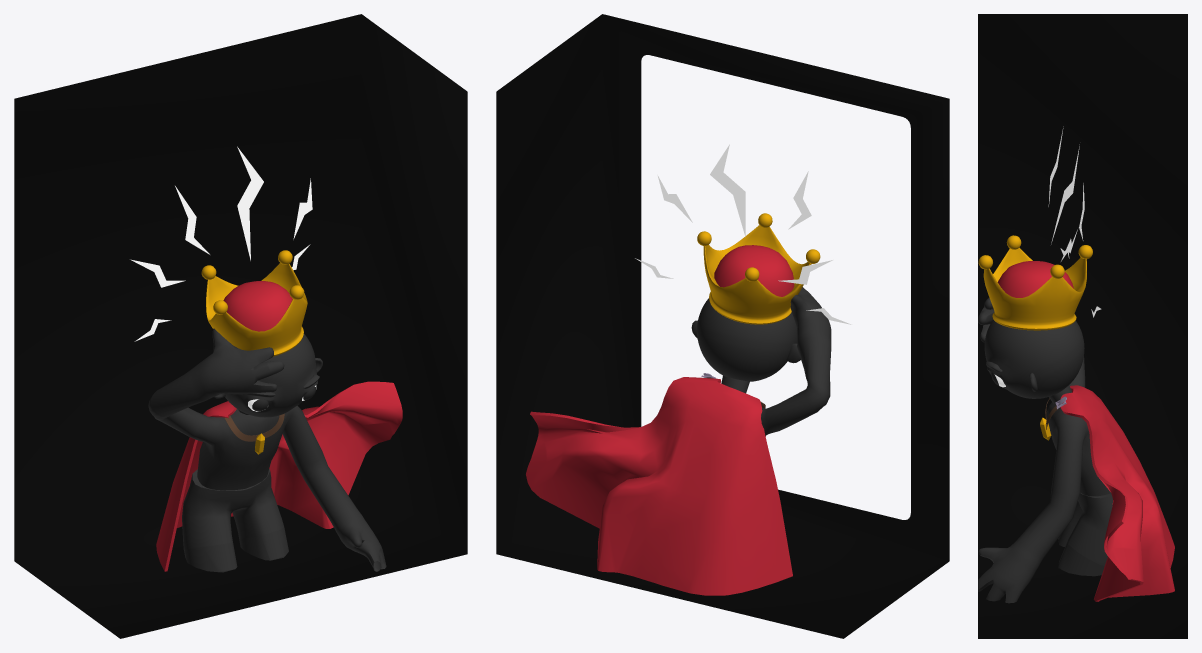
File: 6_King.gltf
3 views of the same model, side by side, from view 1: azimuth 30°, elevation 25°; view 2: azimuth 150°, elevation 25°; view 3: azimuth 270°, elevation 25° (orthographic).
Parts seen in each view (by area): view 1: 6_King_bg, 6_King; view 2: 6_King_bg, 6_King; view 3: 6_King_bg, 6_King.
Boxes of the visible parts, box(x1,y1,x2,y2) form: 6_King_bg: box(14, 14, 467, 638); 6_King: box(130, 146, 402, 572); 6_King_bg: box(496, 14, 949, 638); 6_King: box(526, 144, 851, 595); 6_King_bg: box(978, 14, 1187, 638); 6_King: box(978, 126, 1174, 603).
Size of the model in its own units: 2.76 by 3.51 by 1.46.
Materials: 2 (2 with a texture image).
